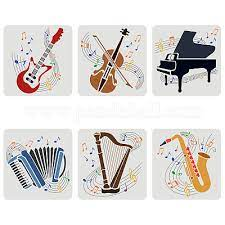Piano: (158, 22, 225, 111)
Saxophone: (157, 125, 218, 209)
Violin: (78, 20, 147, 118)
